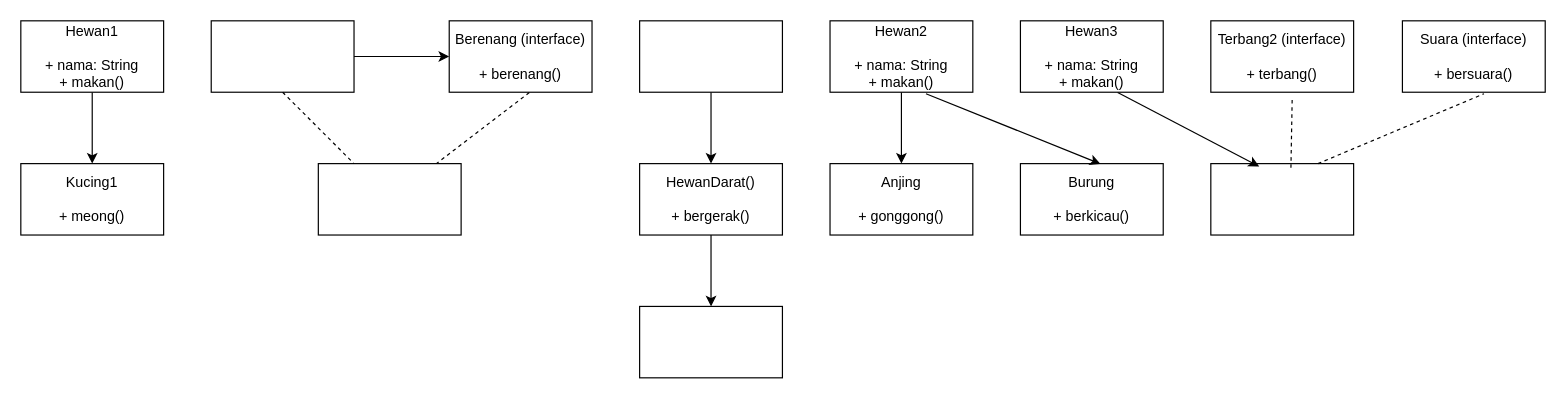
The diagram is 1566 pixels wide and 399 high, and some of its shapes have lost their labels. The shapes that lost their labels are listed below. From the top down, each one's box as (x1, y1, x2, y2) in pixels, then its label:
(210, 20, 354, 92): Terbang1 (interface) + terbang()
(638, 20, 782, 92): MakhlukHidup + bernapas()
(317, 162, 461, 235): Bebek + terbang() + berenang()
(1210, 162, 1354, 235): BurungHybrid + terbang() + bersuara()
(638, 305, 782, 378): KucingRumahan + suara()
